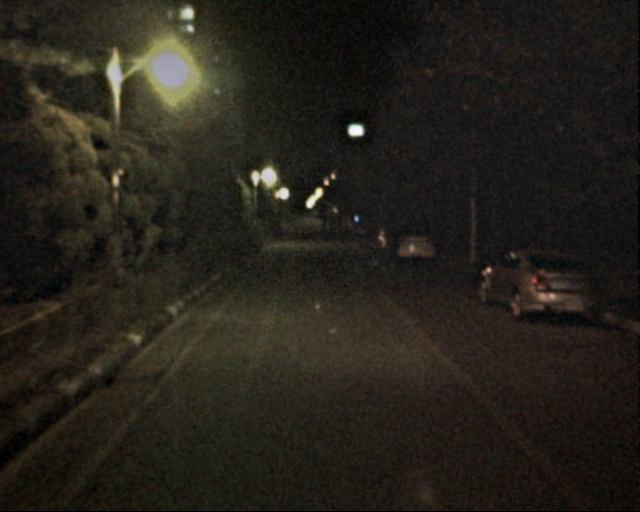person: (383, 223, 402, 270), (364, 225, 382, 268), (321, 218, 341, 237), (280, 215, 290, 240)
